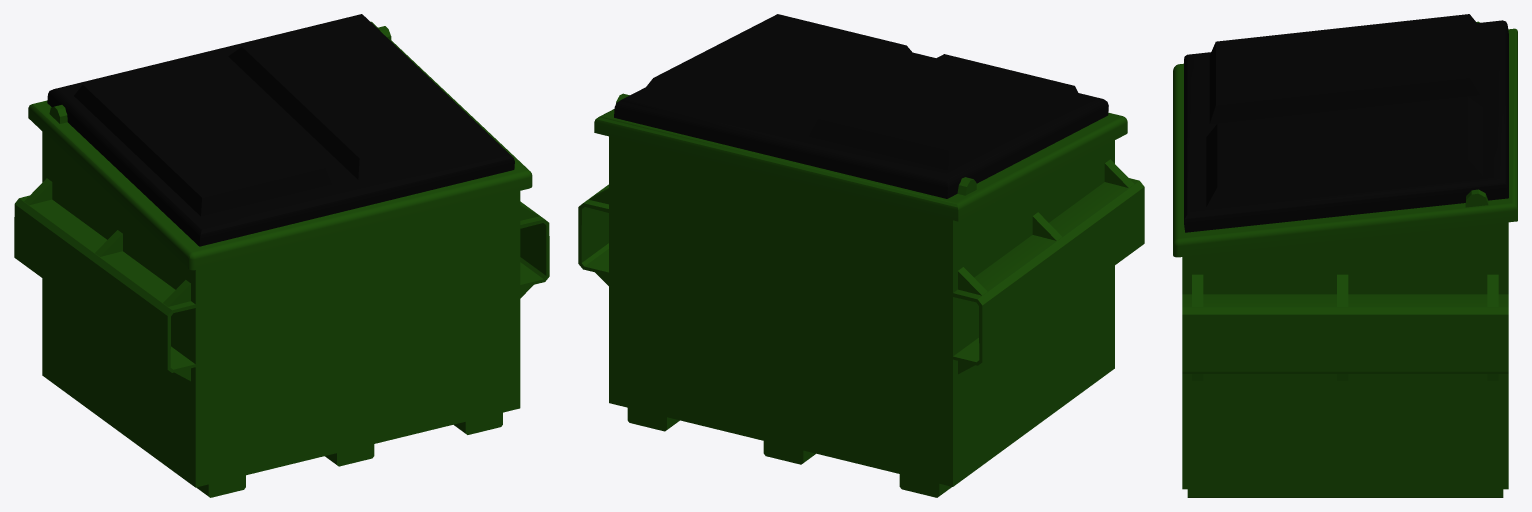
File: BinLarge.fbx
3 renders of one model, left to right at view 1: azimuth 30°, elevation 25°; view 2: azimuth 150°, elevation 25°; view 3: azimuth 270°, elevation 25°, orthographic. The views are drawn at different scales.
Parts seen in each view (by area): view 1: Bin_Large; view 2: Bin_Large; view 3: Bin_Large.
Boxes of the visible parts, x1,y1,x2,y2 form: Bin_Large: (14, 14, 549, 497); Bin_Large: (578, 14, 1144, 497); Bin_Large: (1173, 14, 1517, 497).
Bounding box in the file's own units: 1342 × 1059 × 987.
